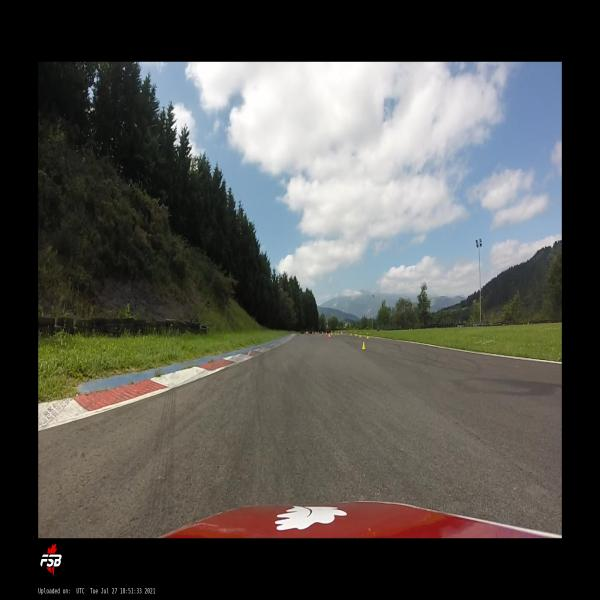orange_cone: (328, 333, 331, 339)
yellow_cone: (362, 340, 365, 349), (367, 332, 369, 339), (359, 332, 361, 338), (350, 330, 352, 336), (355, 331, 357, 336)
